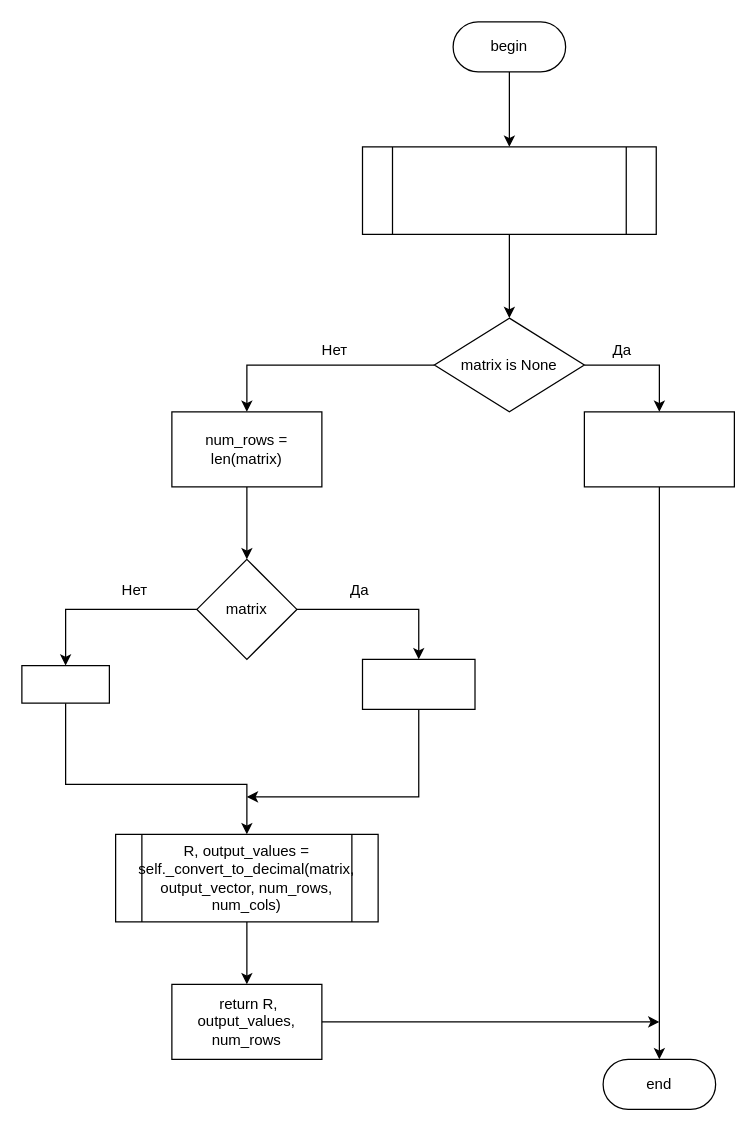
Some shapes in this 756 by 1131 pixel diagram are drawn without their labels. Here are the shapes that lost their labels. From the top down, the box of each, then its label:
(361, 146, 656, 234): matrix = self._validate_inputs(matrix_name, output_vector)
(583, 411, 734, 487): return None, None, 0
(21, 664, 109, 703): num_cols=0
(361, 658, 475, 709): num_cols = len(matrix[0])
